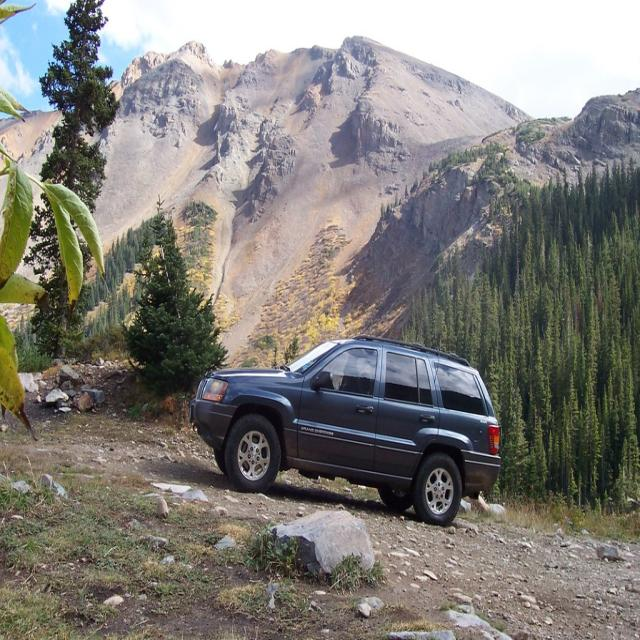car: (187, 333, 507, 529)
